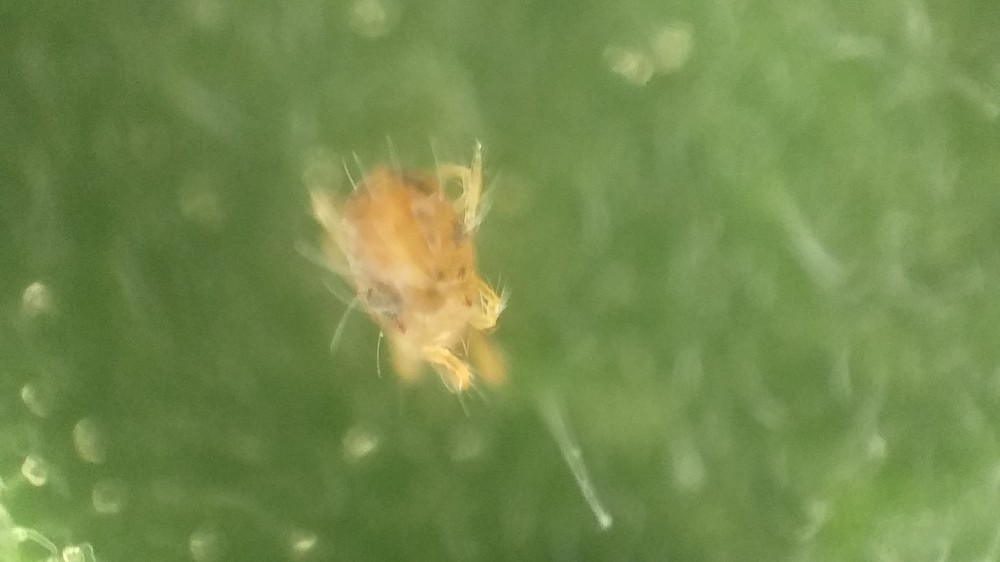Aracnido Rojo: (288, 127, 558, 423)
